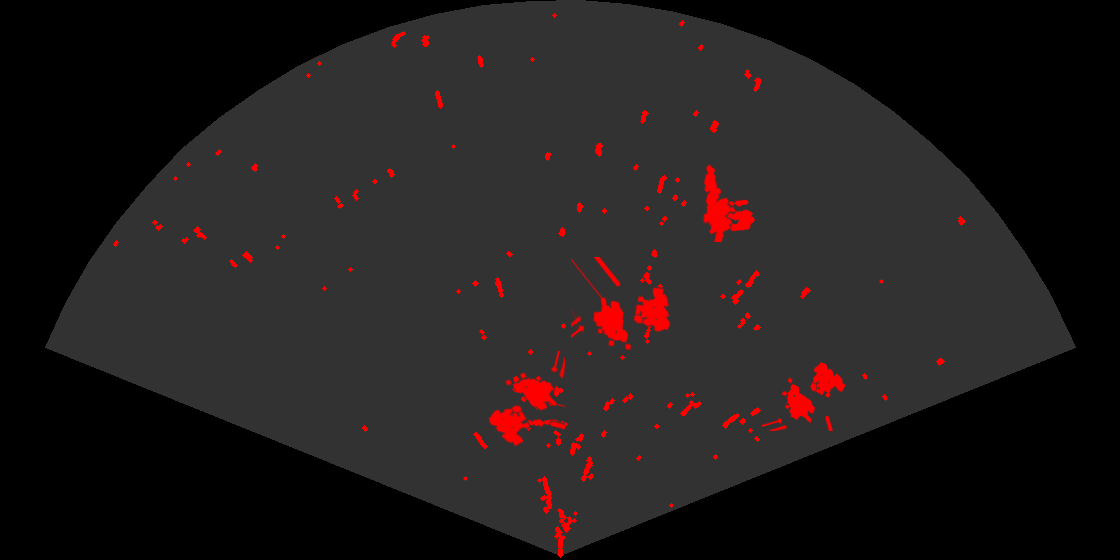ball: (724, 198, 756, 233)
cage: (571, 257, 672, 352), (487, 351, 565, 448), (762, 361, 847, 431)
chain: (496, 417, 569, 430)
frogman: (701, 163, 737, 242)
